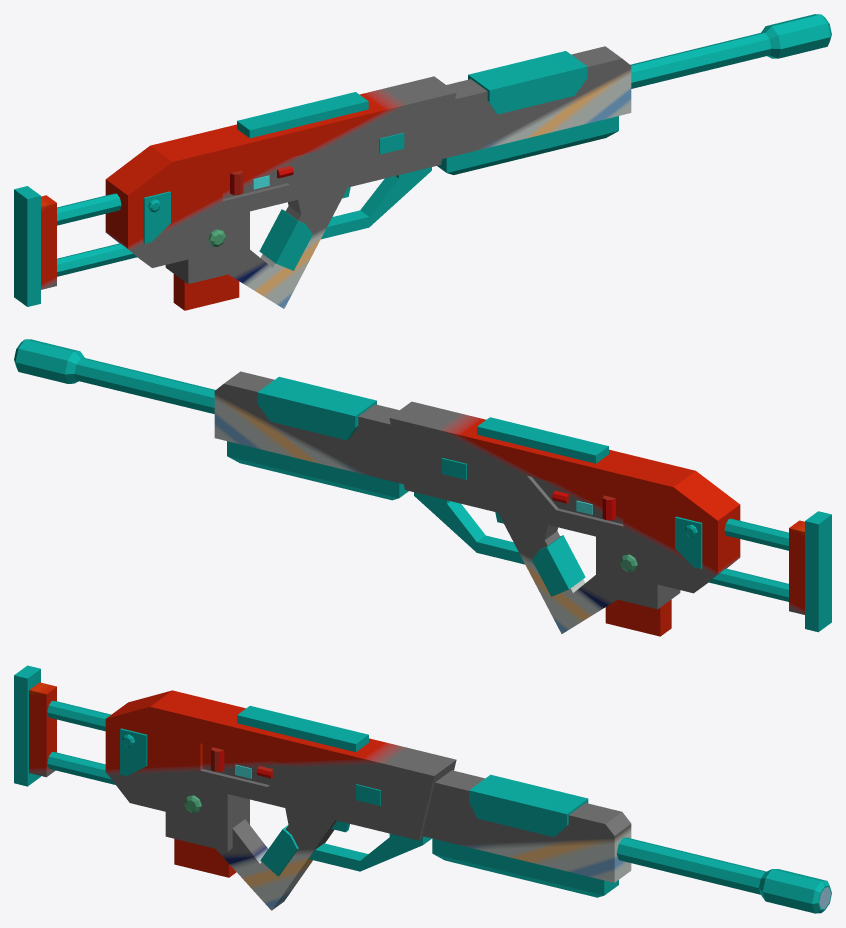
The model's file is M_Pulsar_Destabilizer.fbx.
The picture shows the model from 3 angles, top to bottom: view 1: azimuth 30°, elevation 25°; view 2: azimuth 150°, elevation 25°; view 3: azimuth 330°, elevation 25°; orthographic projection.
Parts seen in each view (by area): view 1: M_Pulsar_Destabilizer; view 2: M_Pulsar_Destabilizer; view 3: M_Pulsar_Destabilizer.
Boxes of the visible parts, x1,y1,x2,y2 form: M_Pulsar_Destabilizer: [14, 14, 831, 310]; M_Pulsar_Destabilizer: [14, 339, 831, 636]; M_Pulsar_Destabilizer: [14, 665, 831, 913].
Bounding box in the file's own units: 414 × 92.07 × 25.59.
1 material, 1 textured.
